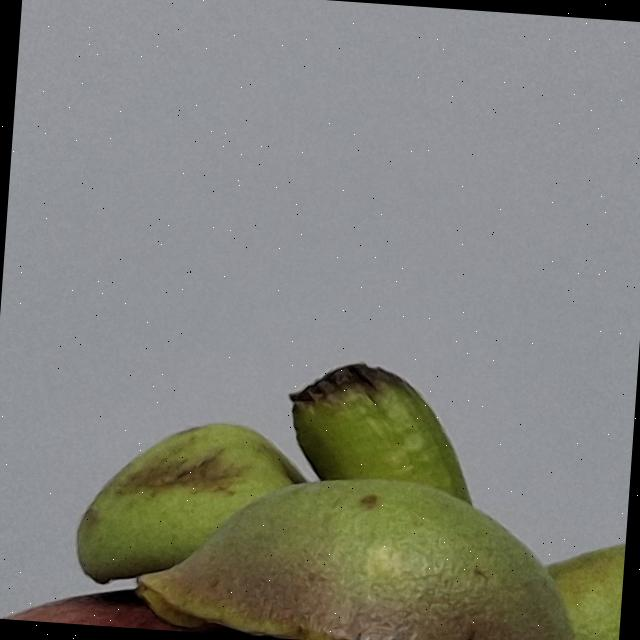mangosteen: (0, 282, 640, 640)
